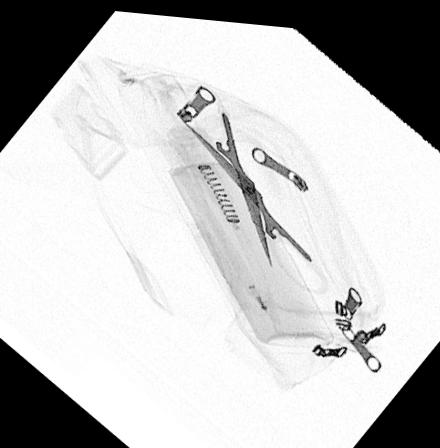Scissors: (177, 73, 328, 288)
